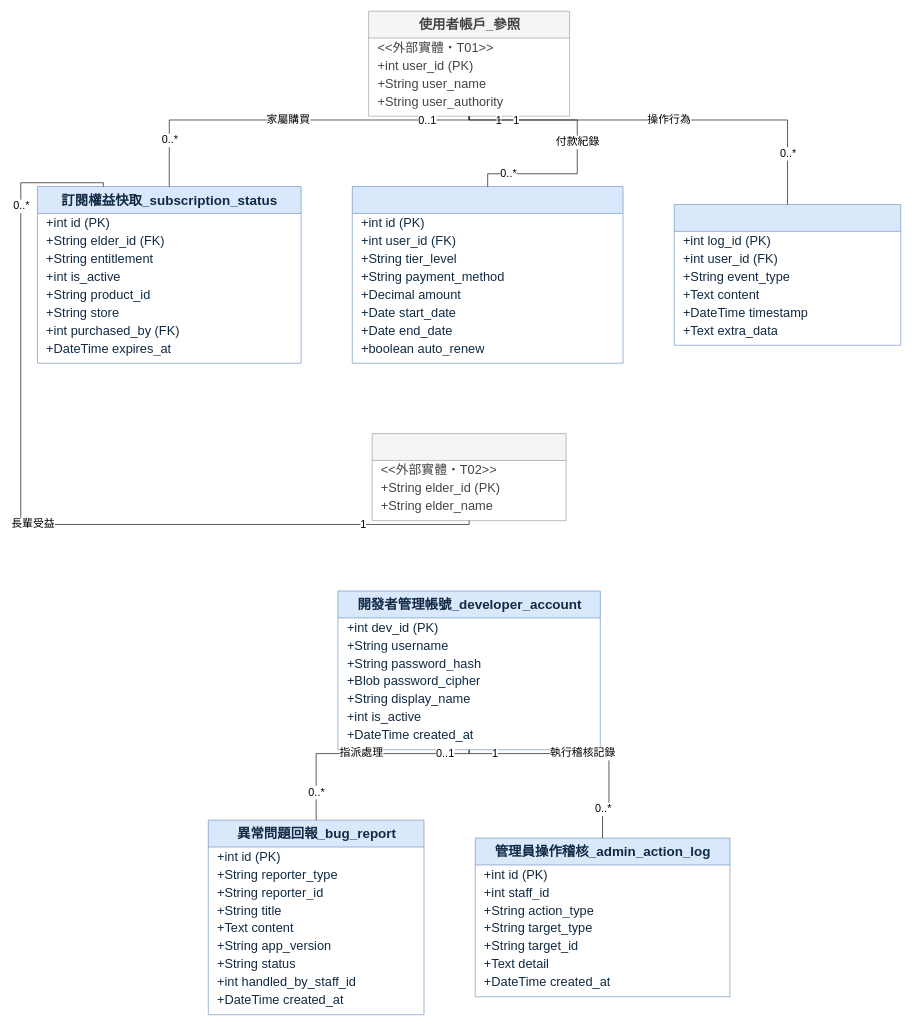
Some shapes in this 912 by 1026 pixel diagram are drawn without their labels. The shapes that lost their labels are listed below. From the top down, each one's box as (x1, y1, x2, y2) in pixels, then its label:
(352, 186, 623, 363): 訂閱流水明細_subscription_records
(674, 204, 901, 345): 使用者操作日誌_activity_log
(372, 433, 566, 521): 長者檔案_參照
